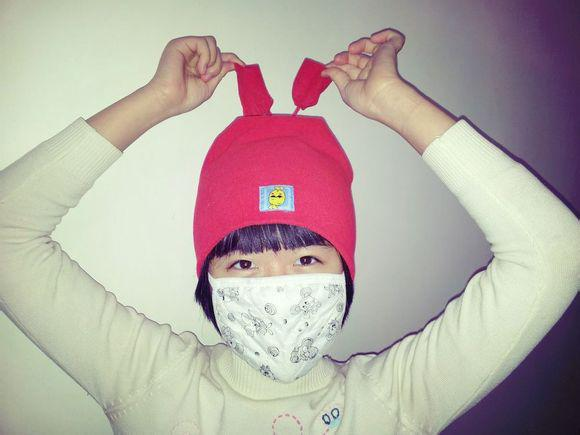OK: (212, 233, 342, 363)
